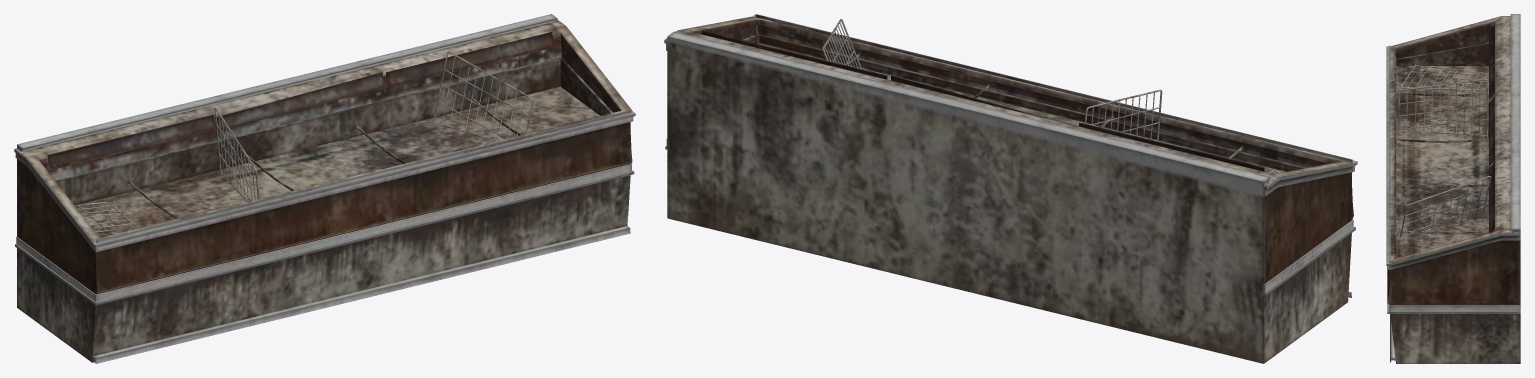
Rendered from scene-fridge.glb.
3 views of the same model, side by side, from view 1: azimuth 30°, elevation 25°; view 2: azimuth 150°, elevation 25°; view 3: azimuth 270°, elevation 25° (orthographic). The views are drawn at different scales.
Visible parts, largest first — view 1: Fridge__0; view 2: Fridge__0; view 3: Fridge__0.
Boxes of the visible parts, <box> form: Fridge__0: <box>14,14,635,363</box>; Fridge__0: <box>664,14,1357,363</box>; Fridge__0: <box>1386,14,1520,363</box>.
Bounding box in the file's own units: 2 × 0.6075 × 0.5223.
1 material, 1 textured.
